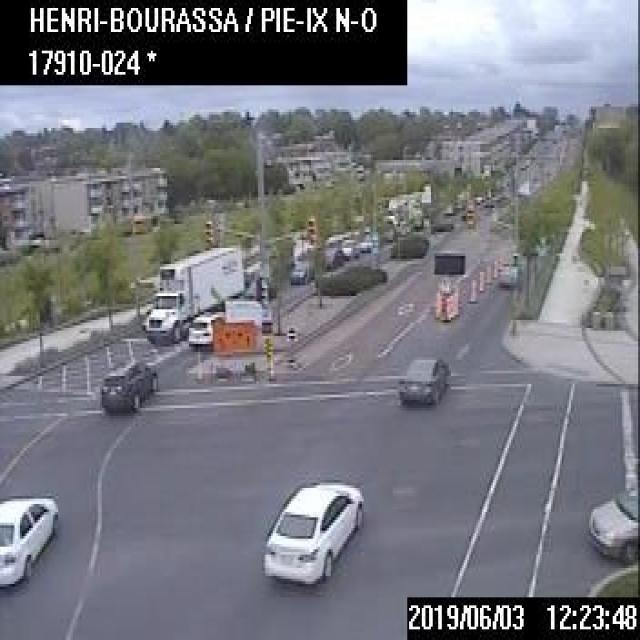construction: (209, 293, 262, 384), (432, 251, 463, 317), (468, 276, 475, 300), (477, 268, 483, 292), (434, 288, 439, 315), (484, 262, 490, 282), (491, 258, 496, 276)
vehicle: (260, 477, 364, 587), (144, 243, 244, 341), (0, 493, 56, 583), (586, 482, 638, 562), (98, 357, 156, 411), (396, 355, 449, 408), (187, 310, 224, 344), (285, 258, 313, 282), (498, 262, 522, 286), (320, 245, 341, 268), (339, 237, 358, 257), (358, 232, 378, 250)
